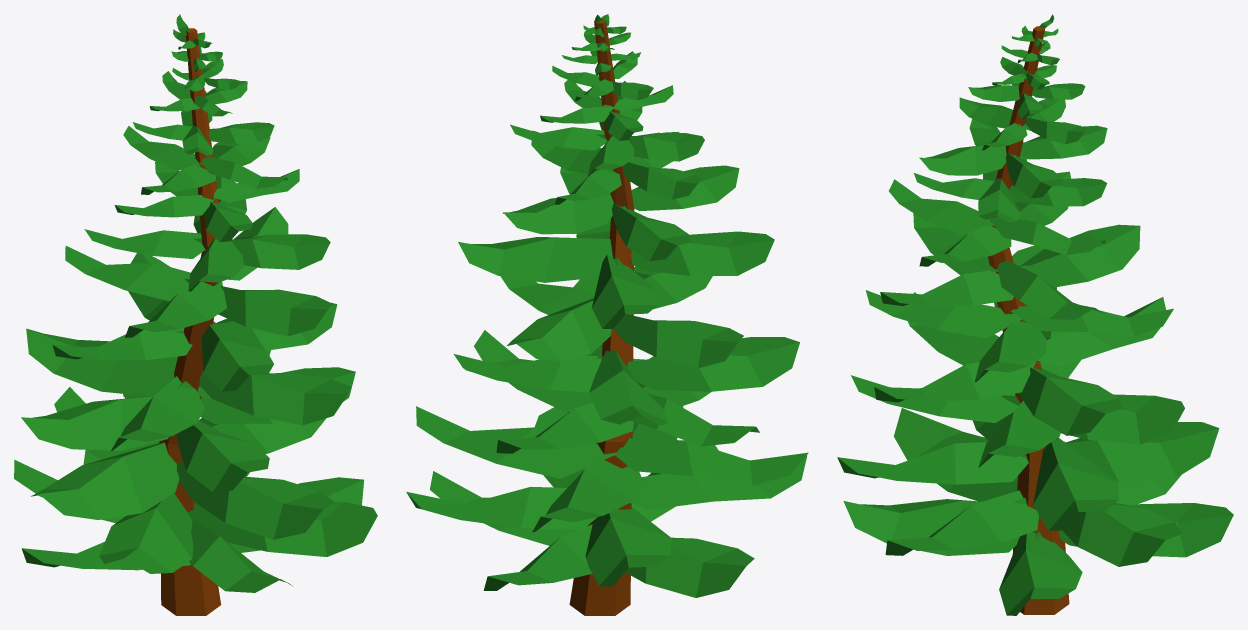
Rendered from Arbol_2.fbx.
3 renders of one model, left to right at view 1: azimuth 30°, elevation 25°; view 2: azimuth 150°, elevation 25°; view 3: azimuth 270°, elevation 25°, orthographic.
Parts seen in each view (by area): view 1: hojas, tronco; view 2: hojas, tronco; view 3: hojas, tronco.
Part boxes in pixels (<box>): hojas: <box>14,14,377,592</box>; tronco: <box>159,28,221,615</box>; hojas: <box>406,14,808,597</box>; tronco: <box>569,18,634,615</box>; hojas: <box>837,14,1233,615</box>; tronco: <box>988,26,1069,614</box>.
Size of the model in its own units: 775 by 1251 by 765.
